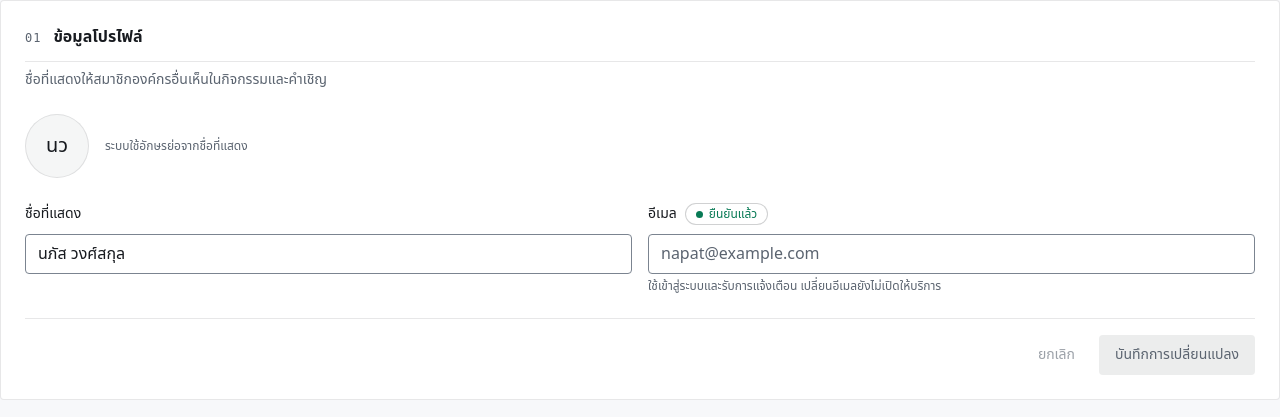
Test: ProfilePage › cancel restores the stored name
The image size is (1280, 417).
Type " เพิ่ม" into the field with test id "profile-name" at (328, 254), box x1=25 y1=234 x2=632 y2=274
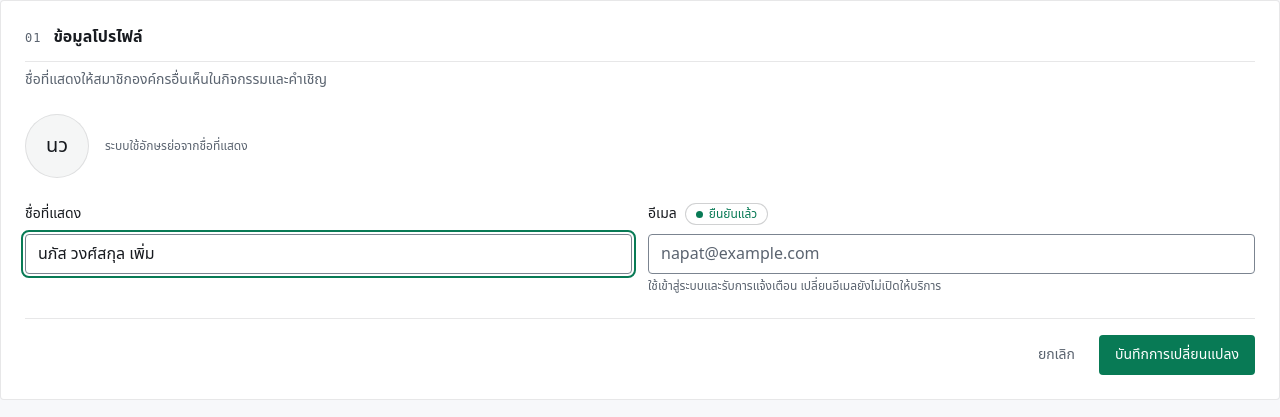
Expected: the field with test id "profile-email" holds "napat@example.com", x1=648 y1=234 x2=1255 y2=274
Now the button with test id "profile-save" is enabled, box x1=1099 y1=335 x2=1255 y2=375
Now the button with test id "profile-cancel" is enabled
Click the button with test id "profile-cancel" at (1056, 355), box x1=1022 y1=335 x2=1091 y2=375
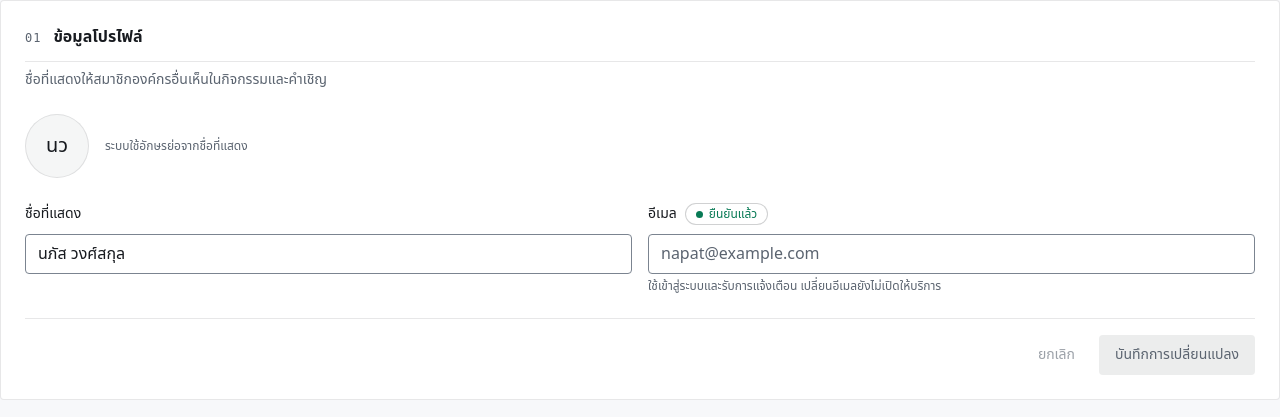
Now the field with test id "profile-name" holds "นภัส วงศ์สกุล", box x1=25 y1=234 x2=632 y2=274
Now the button with test id "profile-save" is disabled, box x1=1099 y1=335 x2=1255 y2=375
Now the button with test id "profile-cancel" is disabled, box x1=1022 y1=335 x2=1091 y2=375
